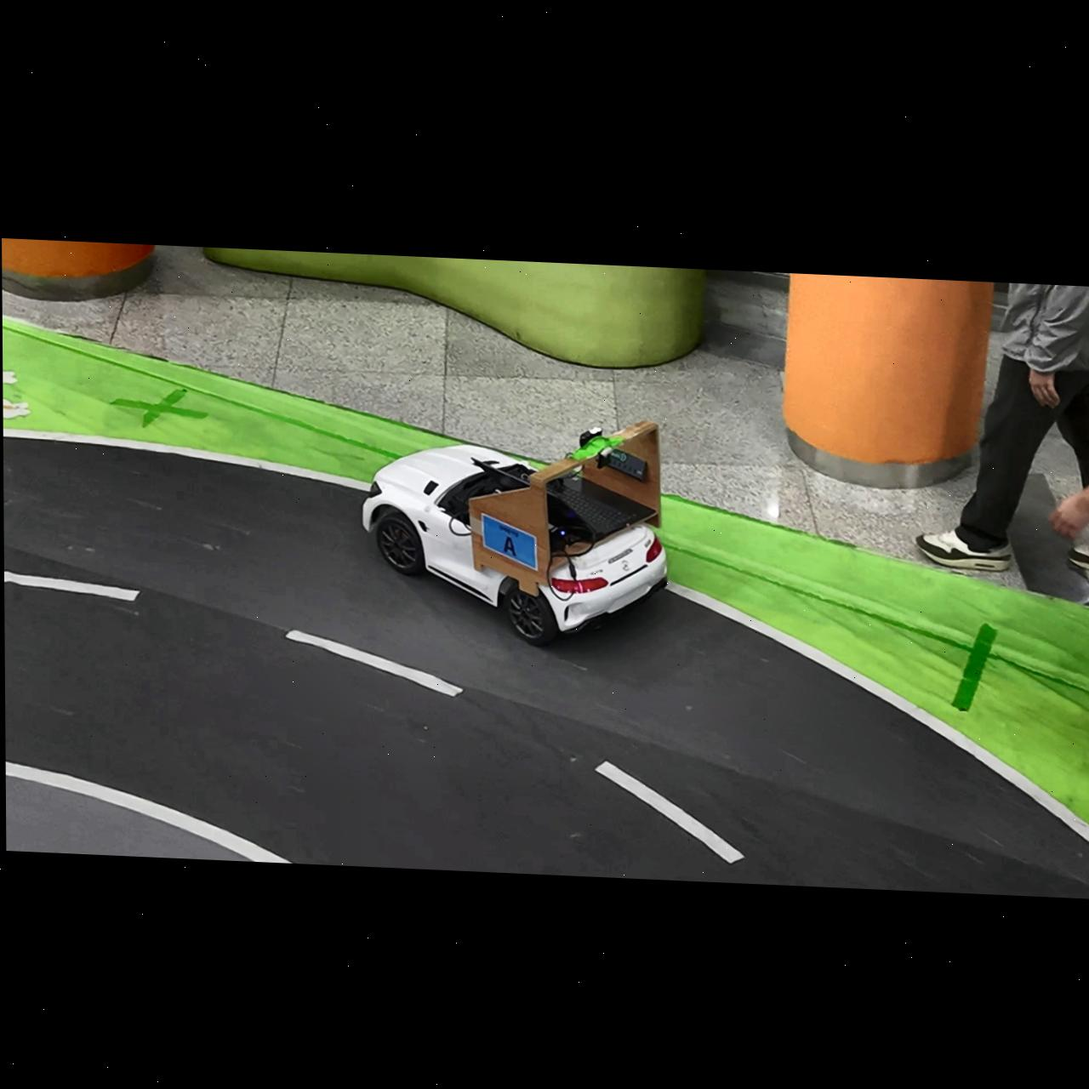broken_line: (594, 761, 745, 864), (286, 630, 463, 697), (4, 571, 140, 601)
